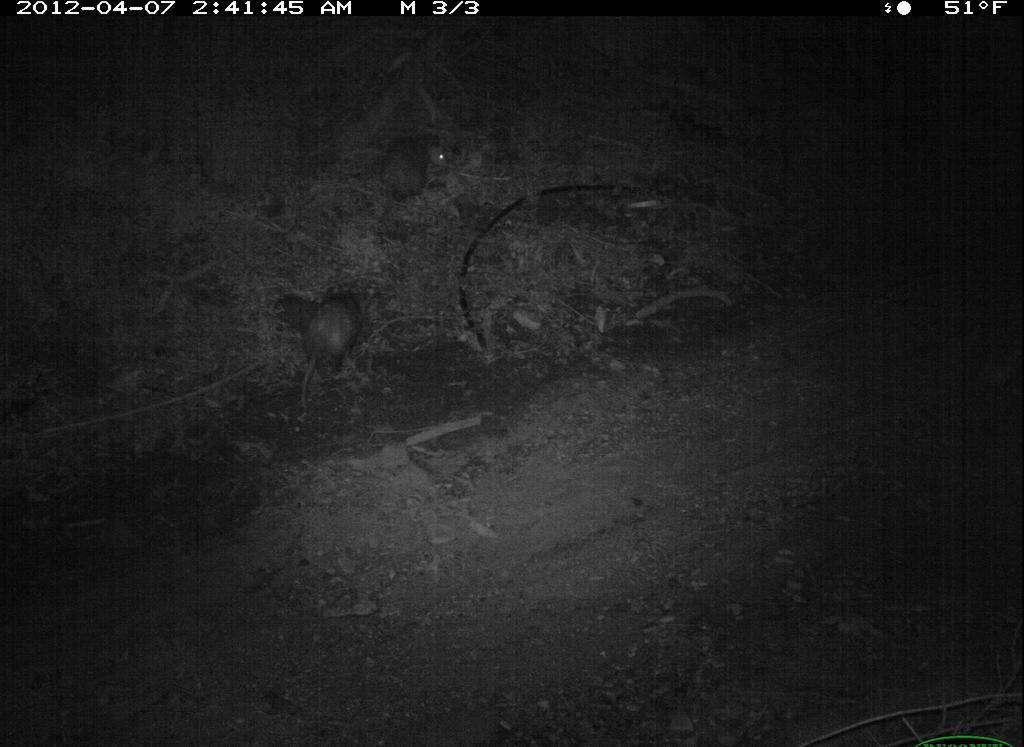opossum: (276, 277, 387, 415), (353, 121, 470, 226)
